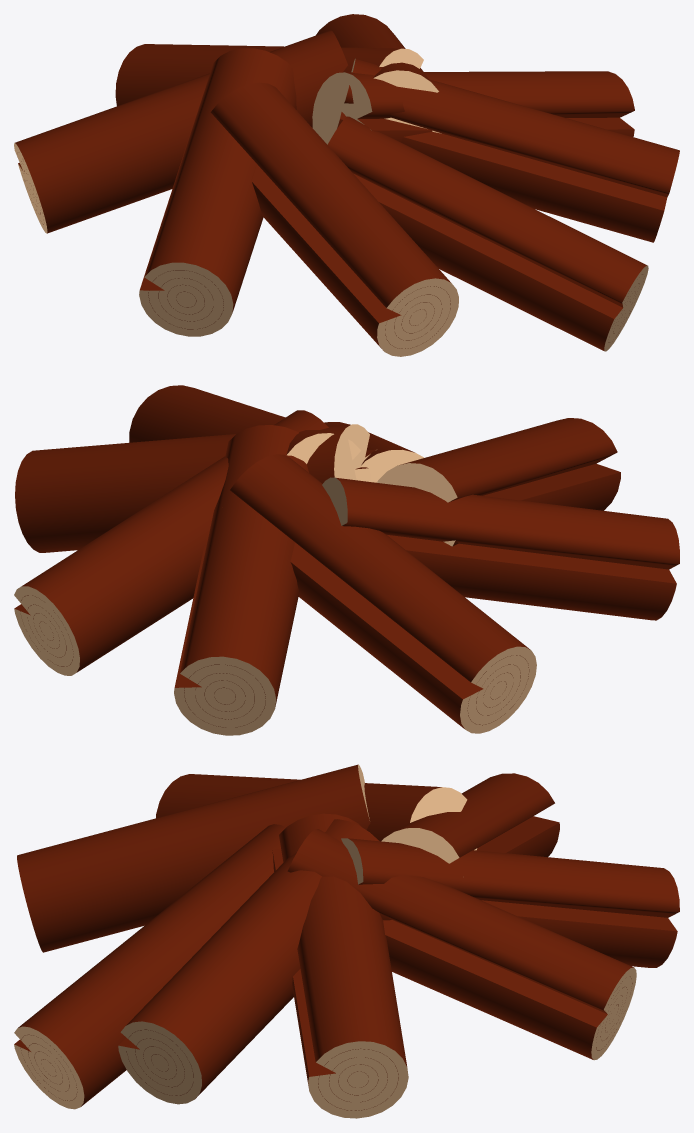
File: 통나무 모닥불.dae
3 renders of one model, top to bottom at view 1: azimuth 30°, elevation 25°; view 2: azimuth 150°, elevation 25°; view 3: azimuth 270°, elevation 25°, orthographic. The views are drawn at different scales.
Parts seen in each view (by area): view 1: group_3 (×5), group_1, group_7, group_4 (×5), group_2, group_5 (×2), group_6 (×2), group_8 (×2); view 2: group_2 (×4), group_4 (×2), group_6 (×5), group_8 (×4), group_5 (×2), group_3 (×2), group_7 (×2), group_1 (×2); view 3: group_8 (×3), group_3, group_7 (×5), group_5 (×5), group_1 (×4), group_6, group_2 (×2), group_4 (×2).
Boxes of the visible parts, x1,y1,x2,y2 form: group_3 (×5): (210,82,458,356); group_1: (327,116,647,350); group_7: (337,58,679,242); group_4 (×5): (139,48,296,336); group_2: (15,30,347,233); group_5 (×2): (312,71,634,144); group_6 (×2): (115,44,423,106); group_8 (×2): (316,14,441,133); group_2 (×4): (222,454,536,733); group_4 (×2): (322,477,679,620); group_6 (×5): (174,425,308,735); group_8 (×4): (14,410,328,675); group_5 (×2): (15,424,376,552); group_3 (×2): (377,418,620,546); group_7 (×2): (129,385,370,481); group_1 (×2): (324,422,424,482); group_8 (×3): (287,829,636,1060); group_3: (17,764,370,952); group_7 (×5): (118,819,379,1104); group_5 (×5): (272,813,408,1118); group_1 (×4): (14,824,285,1109); group_6: (348,838,679,967); group_2 (×2): (381,773,559,863); group_4 (×2): (156,774,477,850).
Size of the model in its own units: 2554 by 2591 by 961.
